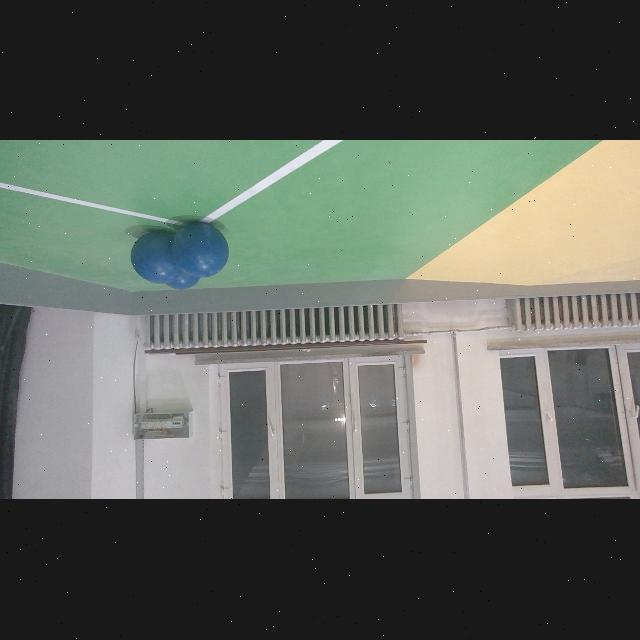B: (172, 222, 228, 278), (132, 227, 180, 286), (162, 258, 198, 292)
